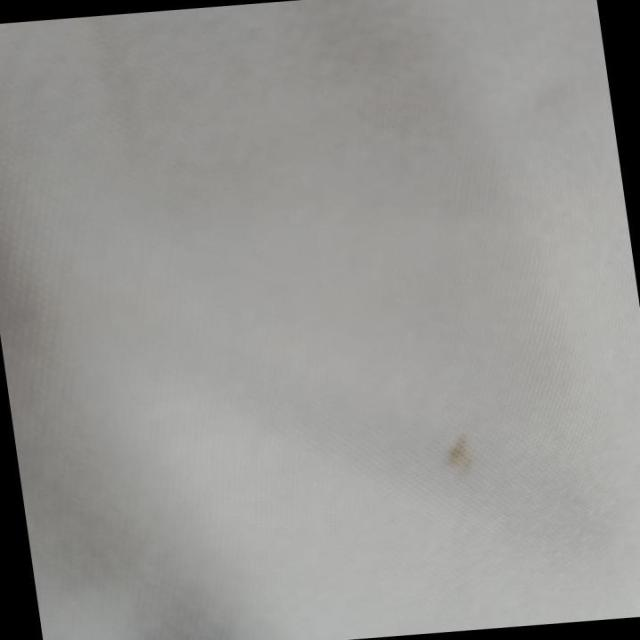stain: (427, 418, 497, 478)
